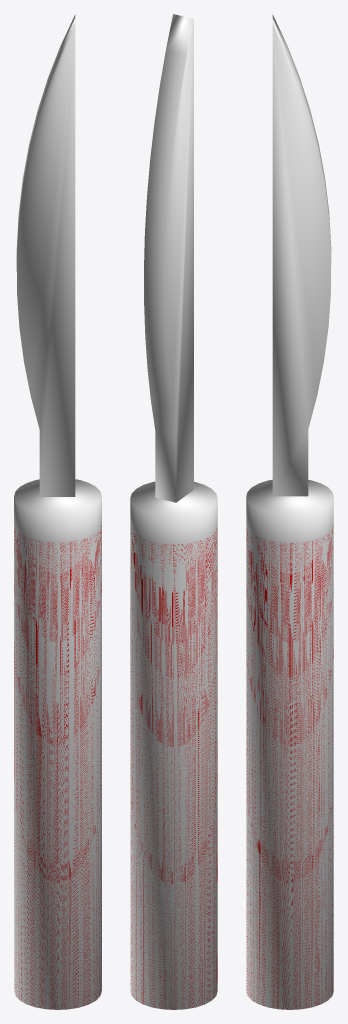
3 renders of one model, left to right at view 1: azimuth 90°, elevation 25°; view 2: azimuth 150°, elevation 25°; view 3: azimuth 270°, elevation 25°, orthographic.
Visible parts, largest first — view 1: mesh1_mesh1-geometry, mesh2_mesh2-geometry; view 2: mesh1_mesh1-geometry, mesh2_mesh2-geometry; view 3: mesh1_mesh1-geometry, mesh2_mesh2-geometry.
Boxes of the visible parts, x1=… form: mesh1_mesh1-geometry: x1=14, y1=479, x2=101, y2=1009; mesh2_mesh2-geometry: x1=16, y1=14, x2=75, y2=496; mesh1_mesh1-geometry: x1=130, y1=481, x2=217, y2=1009; mesh2_mesh2-geometry: x1=144, y1=14, x2=193, y2=502; mesh1_mesh1-geometry: x1=246, y1=479, x2=333, y2=1009; mesh2_mesh2-geometry: x1=272, y1=14, x2=331, y2=496.
Size of the model in its own units: 0.0811 by 0.9934 by 0.0811.
